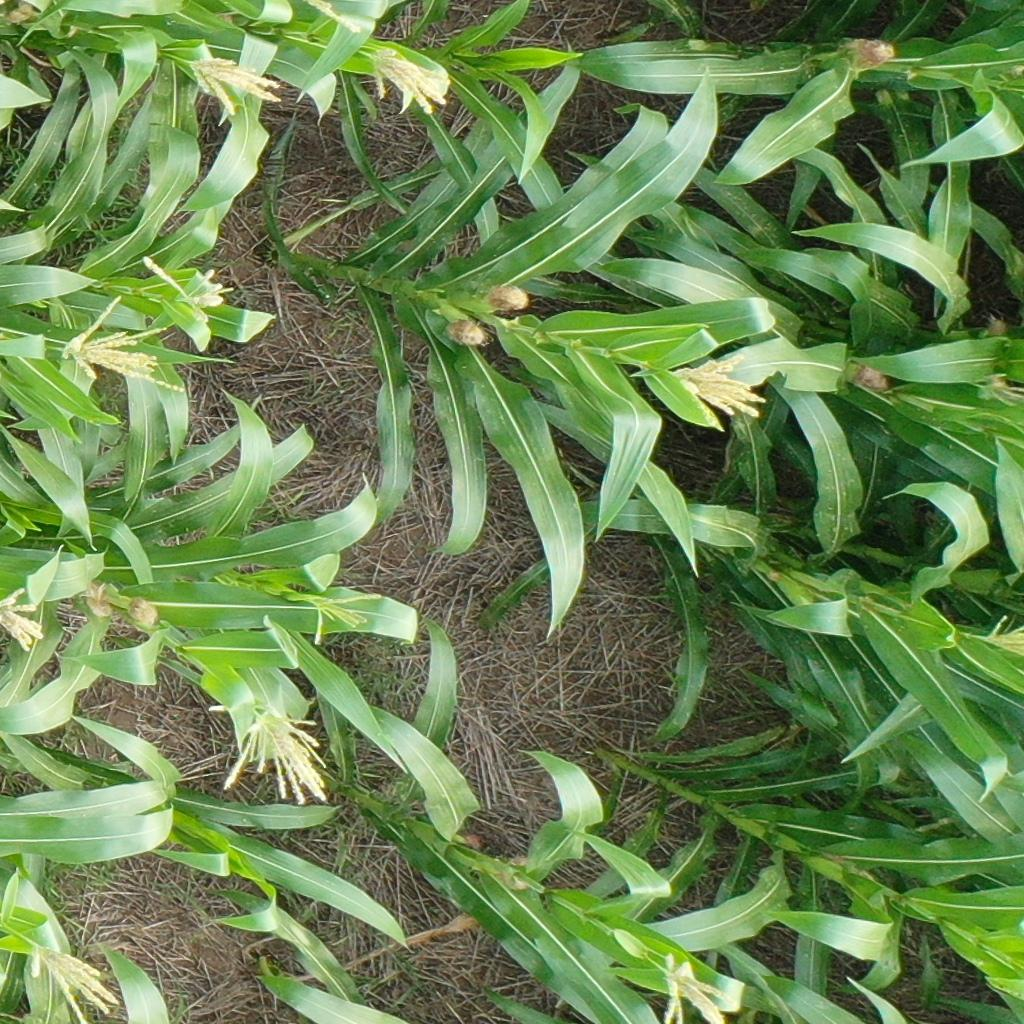Tassel: (59, 294, 188, 397), (223, 702, 333, 808), (667, 350, 769, 429), (27, 941, 120, 1024), (140, 249, 234, 323), (186, 55, 285, 117), (368, 48, 451, 112), (653, 953, 727, 1024), (307, 589, 381, 644), (1, 586, 49, 656), (984, 616, 1024, 656), (306, 1, 363, 29)
